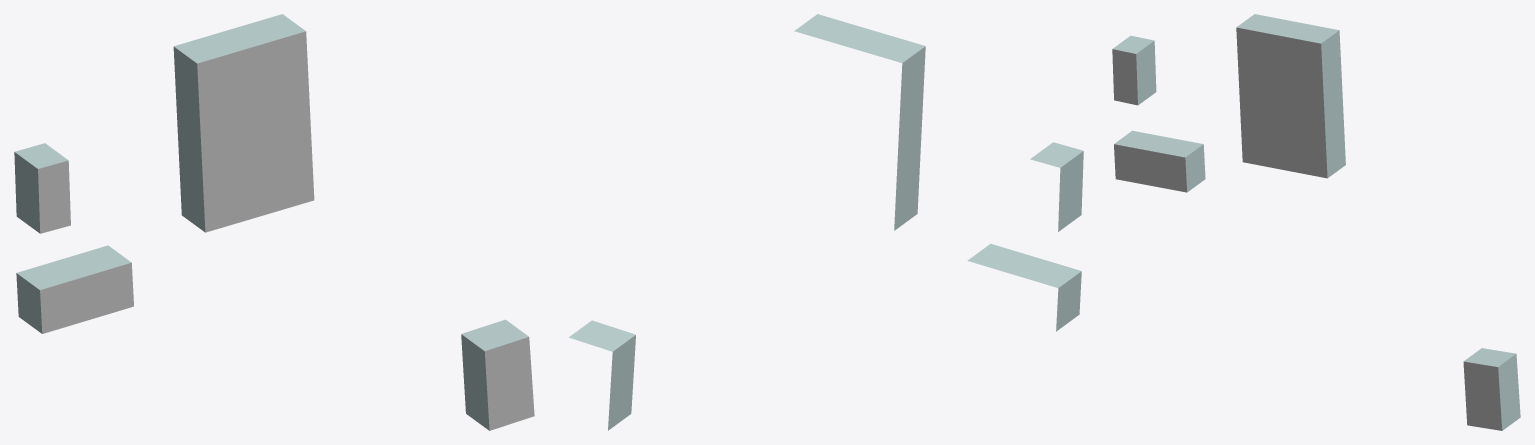
3 renders of one model, left to right at view 1: azimuth 30°, elevation 25°; view 2: azimuth 150°, elevation 25°; view 3: azimuth 330°, elevation 25°, orthographic. The views are drawn at different scales.
Parts seen in each view (by area): view 1: 0_3_1_2_2_3_3_3_0; view 2: 0_3_1_2_2_3_3_3_0; view 3: 0_3_1_2_2_3_3_3_0.
Part boxes in pixels (left/top/right/bottom): 0_3_1_2_2_3_3_3_0: left=14, top=14, right=534, bottom=430; 0_3_1_2_2_3_3_3_0: left=569, top=14, right=1083, bottom=430; 0_3_1_2_2_3_3_3_0: left=1112, top=14, right=1520, bottom=430.
Bounding box in the file's own units: 36.56 × 31.28 × 3.27.
